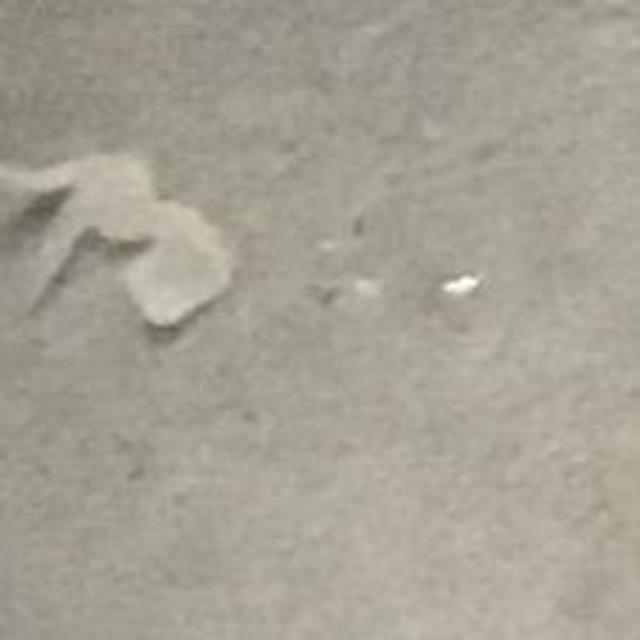peeling plaster: (0, 156, 234, 329)
